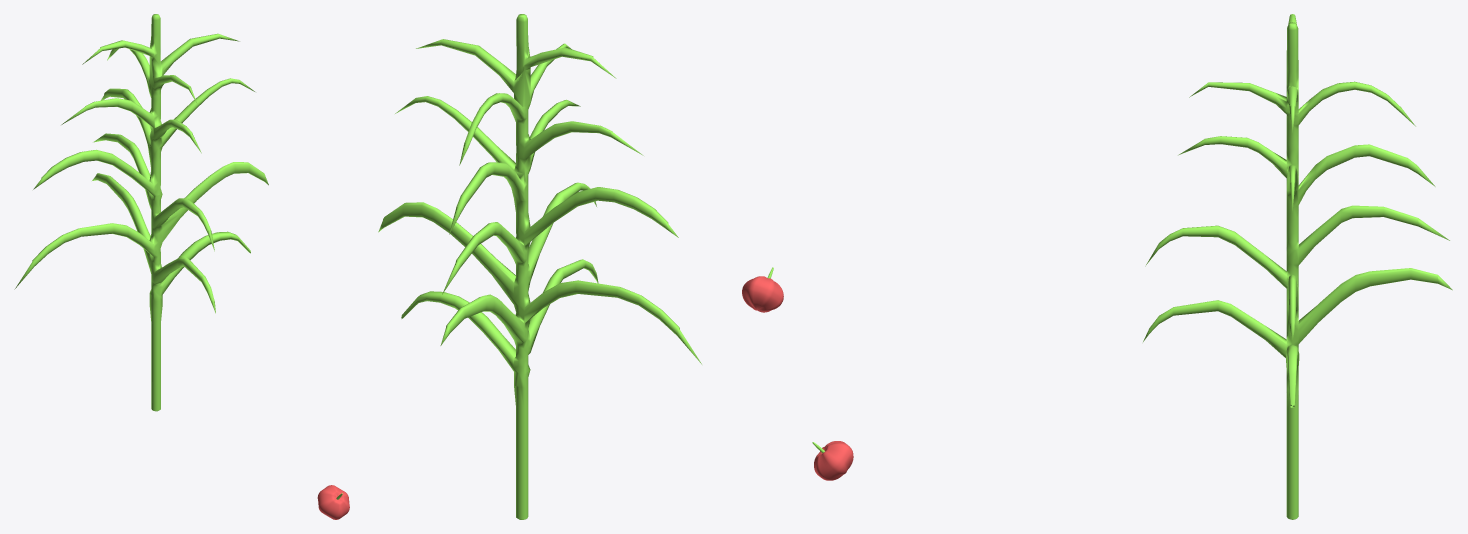
Rendered from Tomatoplant.fbx.
3 renders of one model, left to right at view 1: azimuth 30°, elevation 25°; view 2: azimuth 150°, elevation 25°; view 3: azimuth 270°, elevation 25°, orthographic. The views are drawn at different scales.
Parts seen in each view (by area): view 1: pCube1, pSphere1; view 2: pCube1, pSphere1; view 3: pCube1, pSphere1.
Boxes of the visible parts, left/top/right/bottom form: pCube1: left=14, top=14, right=268, bottom=411; pSphere1: left=317, top=485, right=349, bottom=519; pCube1: left=378, top=14, right=701, bottom=519; pSphere1: left=742, top=276, right=783, bottom=312; pCube1: left=1143, top=14, right=1452, bottom=519; pSphere1: left=814, top=441, right=853, bottom=480.
Bounding box in the file's own units: 30.8 × 45.59 × 53.55.
